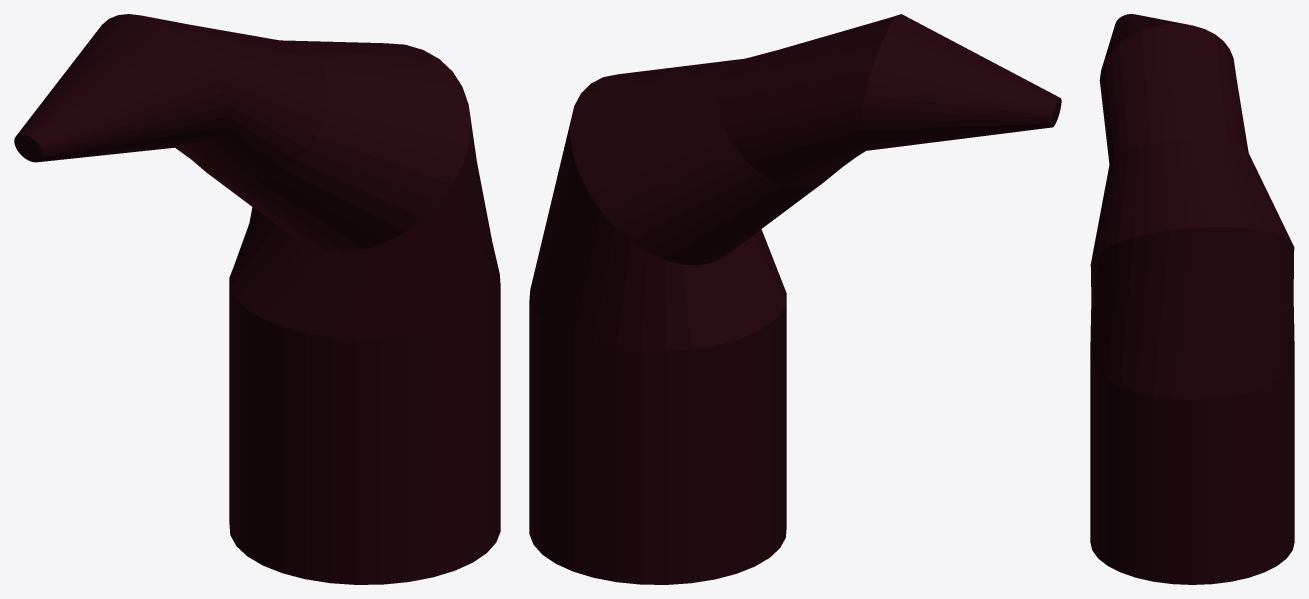
The model's file is redspike.glb.
3 views of the same model, side by side, from view 1: azimuth 30°, elevation 25°; view 2: azimuth 150°, elevation 25°; view 3: azimuth 270°, elevation 25° (orthographic). The views are drawn at different scales.
Visible parts, largest first — view 1: Red_Spike; view 2: Red_Spike; view 3: Red_Spike.
Part boxes in pixels (box(x1,y1,x2,y2)): Red_Spike: box(14, 14, 500, 584); Red_Spike: box(529, 14, 1061, 584); Red_Spike: box(1090, 14, 1294, 584).
Size of the model in its own units: 1.8 by 1.98 by 0.8454.
